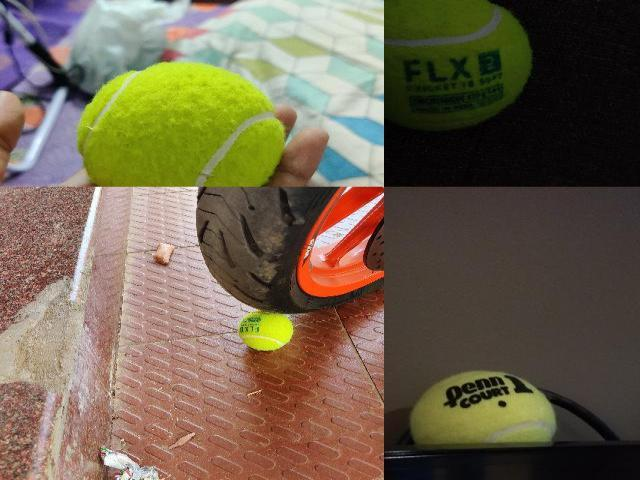tennis-ball: (75, 61, 286, 186), (384, 0, 532, 132), (407, 369, 558, 440), (238, 314, 293, 350)
